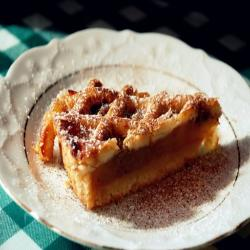apple_pie: (36, 81, 234, 217)
